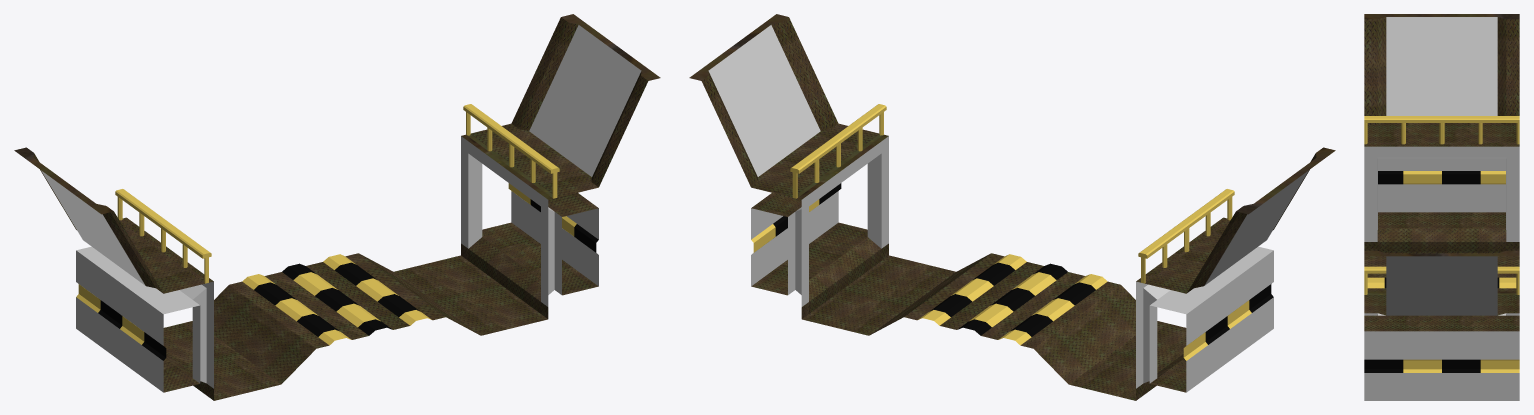
The model's file is TileV4Cut.fbx.
3 renders of one model, left to right at view 1: azimuth 30°, elevation 25°; view 2: azimuth 150°, elevation 25°; view 3: azimuth 270°, elevation 25°, orthographic. The views are drawn at different scales.
Visible parts, largest first — view 1: Cube; view 2: Cube; view 3: Cube.
Boxes of the visible parts, <box> form: Cube: <box>14,14,660,400</box>; Cube: <box>689,14,1335,400</box>; Cube: <box>1364,14,1519,400</box>.
Size of the model in its own units: 4432 by 1620 by 1200.
